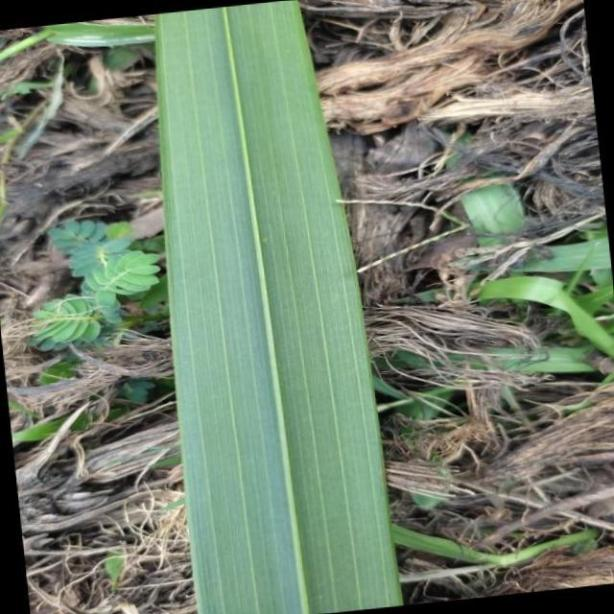Healthy: (157, 5, 398, 611)
